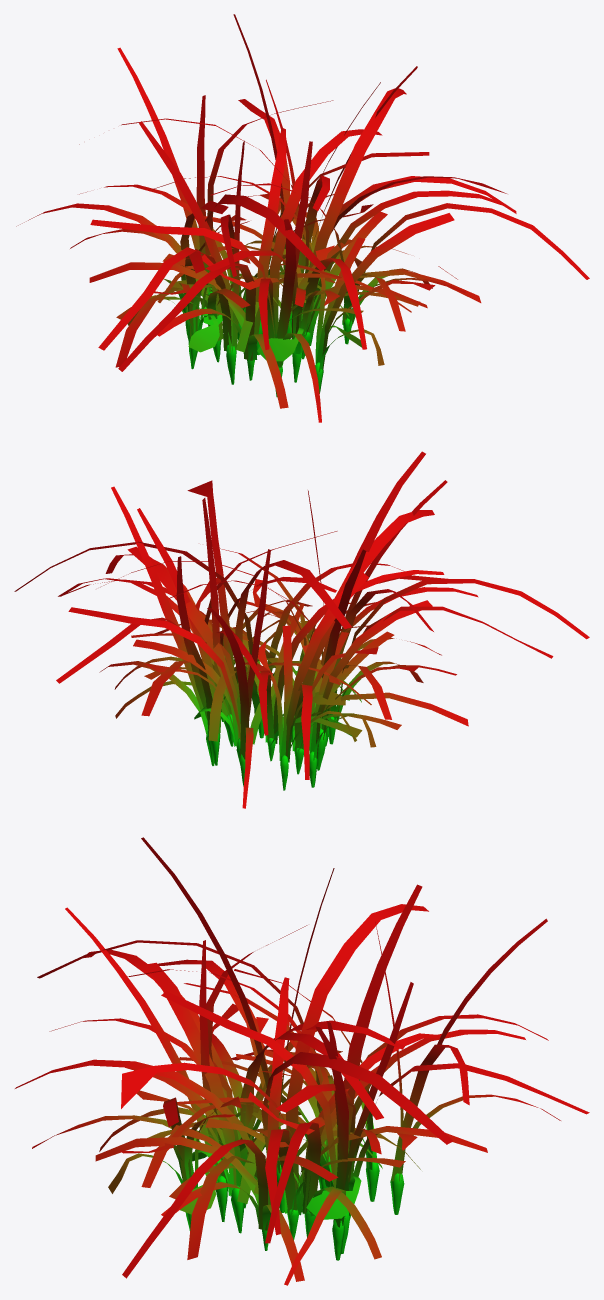
File: QXL_Ribbon_Grass_tbdpec3r_2_LOD1.fbx
3 views of the same model, one above another, from view 1: azimuth 30°, elevation 25°; view 2: azimuth 150°, elevation 25°; view 3: azimuth 270°, elevation 25° (orthographic). The views are drawn at different scales.
Parts seen in each view (by area): view 1: Var3_LOD1; view 2: Var3_LOD1; view 3: Var3_LOD1.
Boxes of the visible parts, x1,y1,x2,y2 form: Var3_LOD1: (16,14,589,422); Var3_LOD1: (14,451,589,808); Var3_LOD1: (15,837,589,1285).
Bounding box in the file's own units: 60.5 × 37.33 × 53.46.
